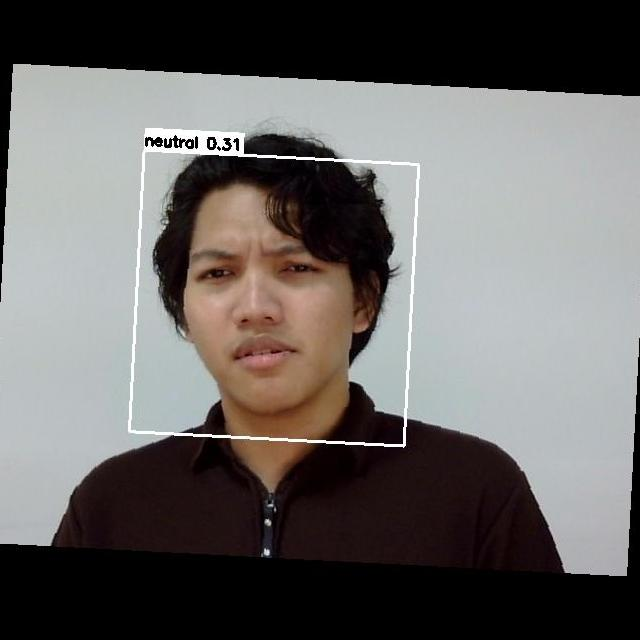Fear: (168, 217, 365, 398)
